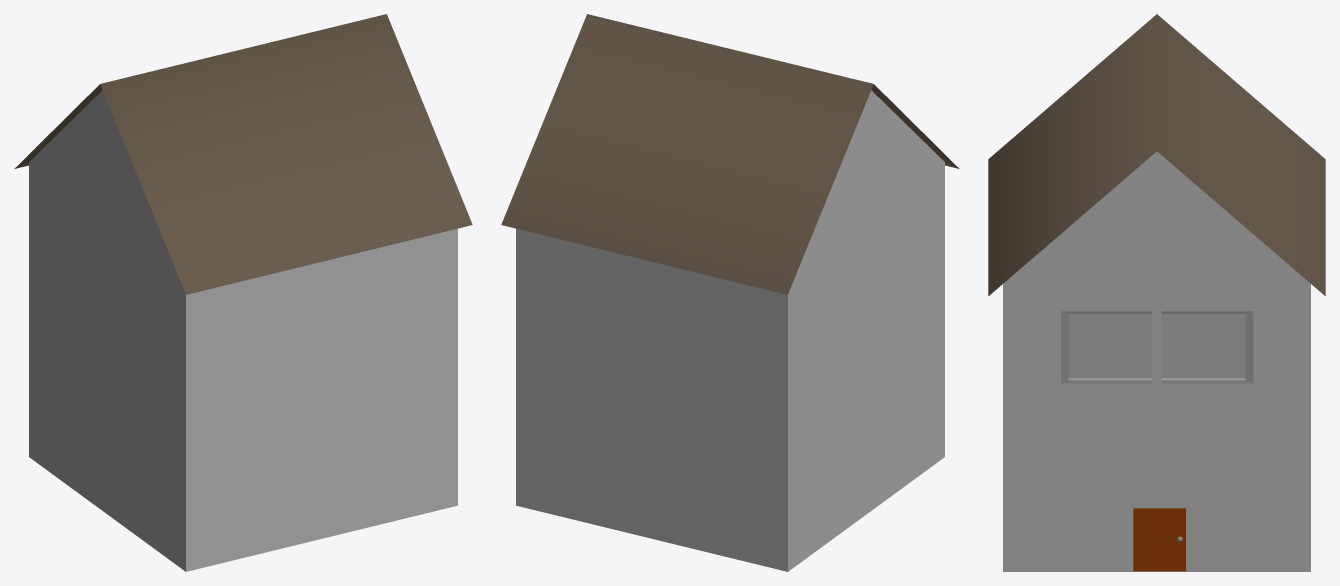
Rendered from Toy house.fbx.
The picture shows the model from 3 angles, left to right: view 1: azimuth 30°, elevation 25°; view 2: azimuth 150°, elevation 25°; view 3: azimuth 270°, elevation 25°; orthographic projection.
Visible parts, largest first — view 1: pCube1; view 2: pCube1; view 3: pCube1.
Part boxes in pixels (left/top/right/bottom): pCube1: left=14, top=14, right=472, bottom=571; pCube1: left=501, top=14, right=959, bottom=571; pCube1: left=988, top=14, right=1325, bottom=571.
Size of the model in its own units: 12.72 by 18.33 by 13.21.
